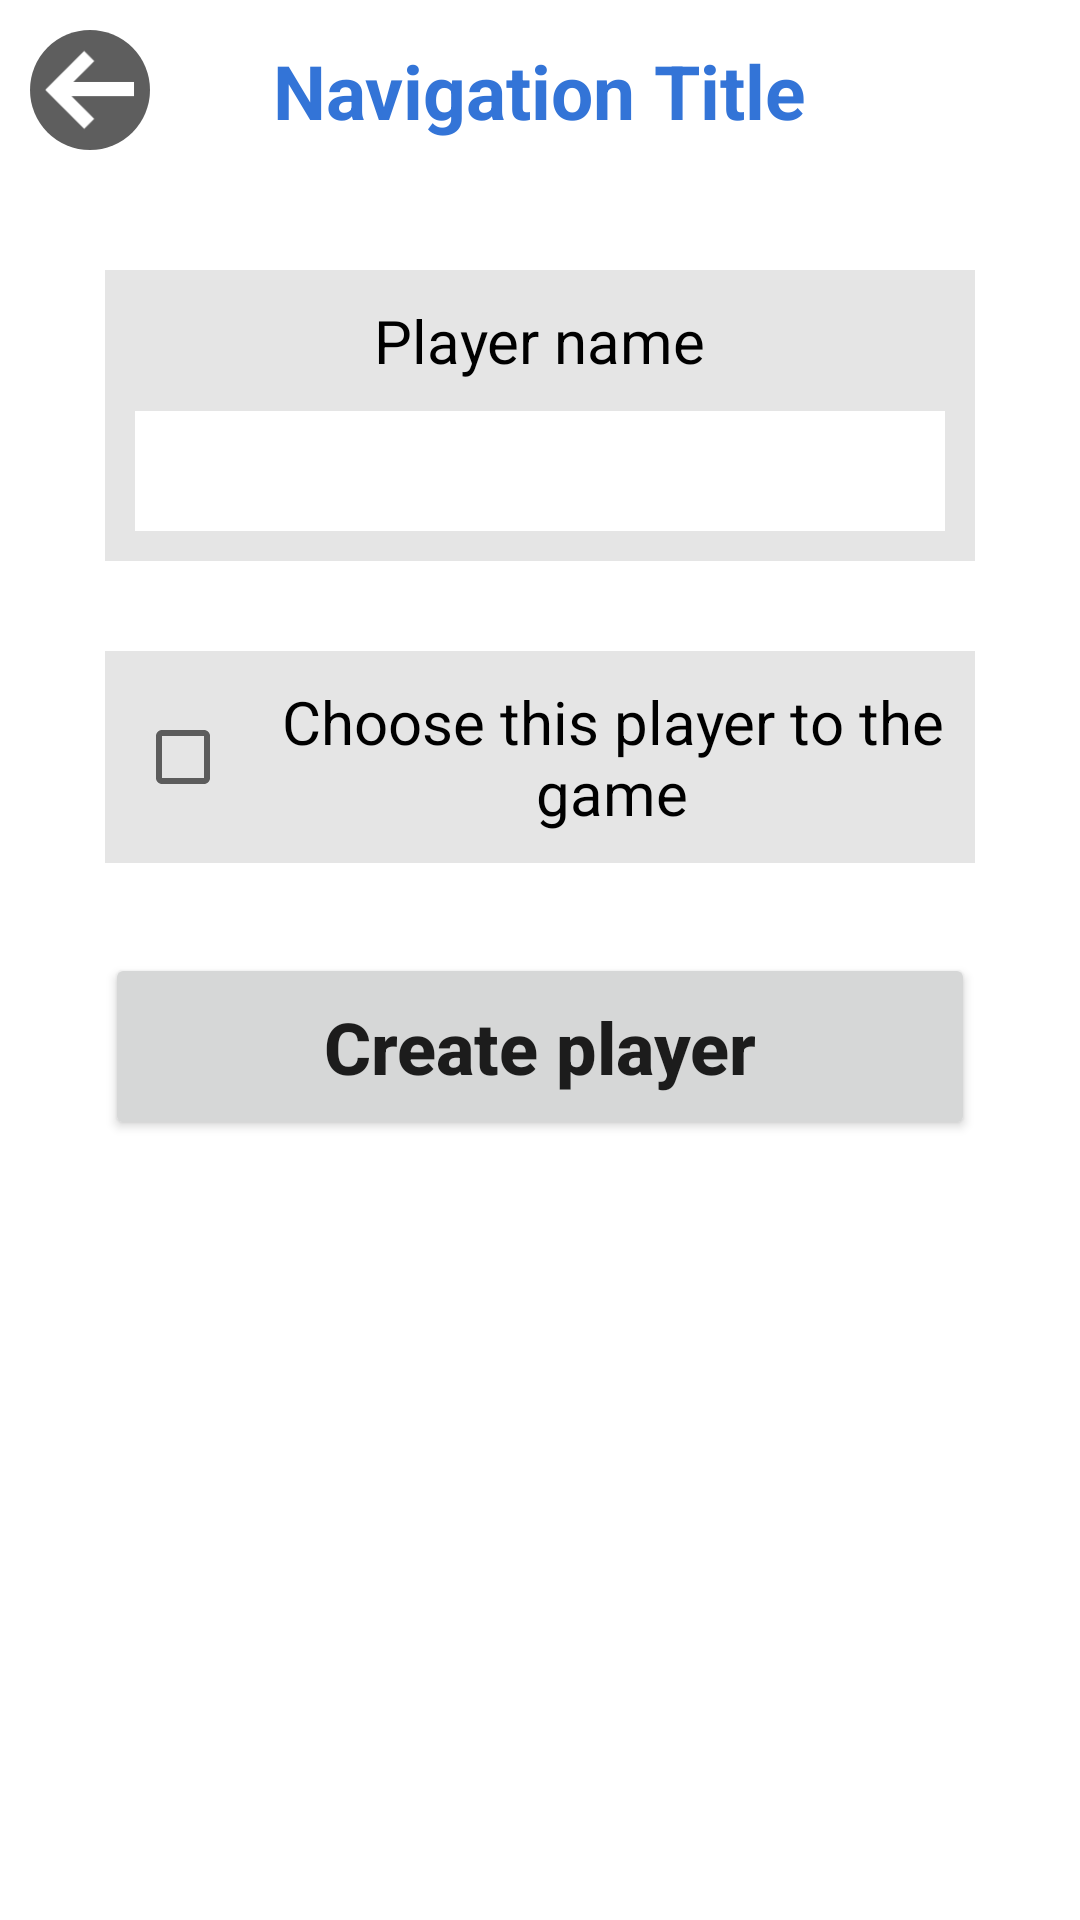

Where icons sit on this 1080 x 1920 app screen, as (x1, y1, x2, y2):
back arrow: (30, 30, 150, 150)
